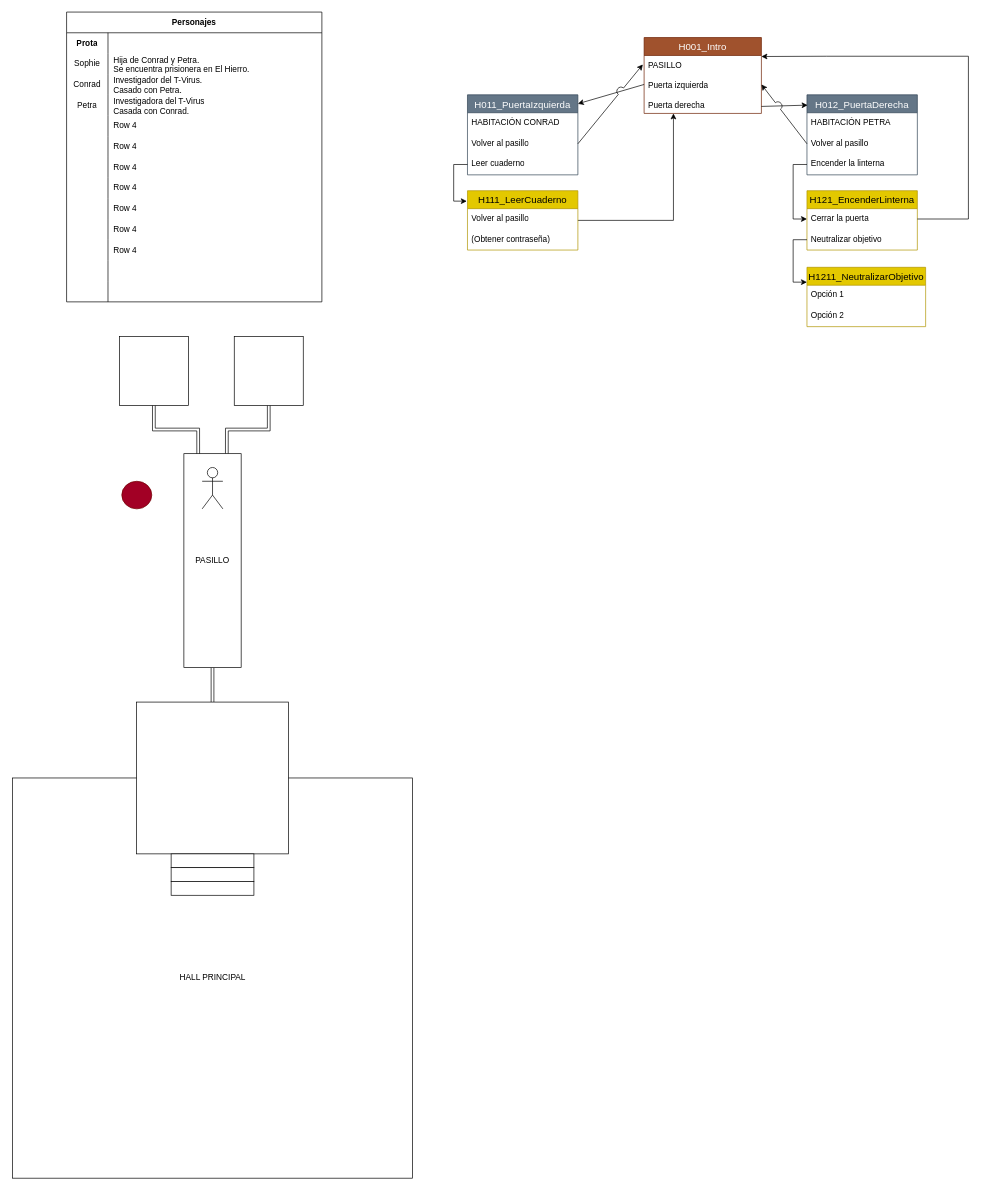
Image size: 986x1190. Some labels were removed from this diagram. Here are the shapes that lost their labels. From the top down, the centre of each, then its label:
the point at 153,370: HABITACIÓN DE CONRAD
the point at 268,370: HABITACIÓN DE PETRA
the point at 136,495: START
the point at 212,777: HALL 1ª PLANTA
